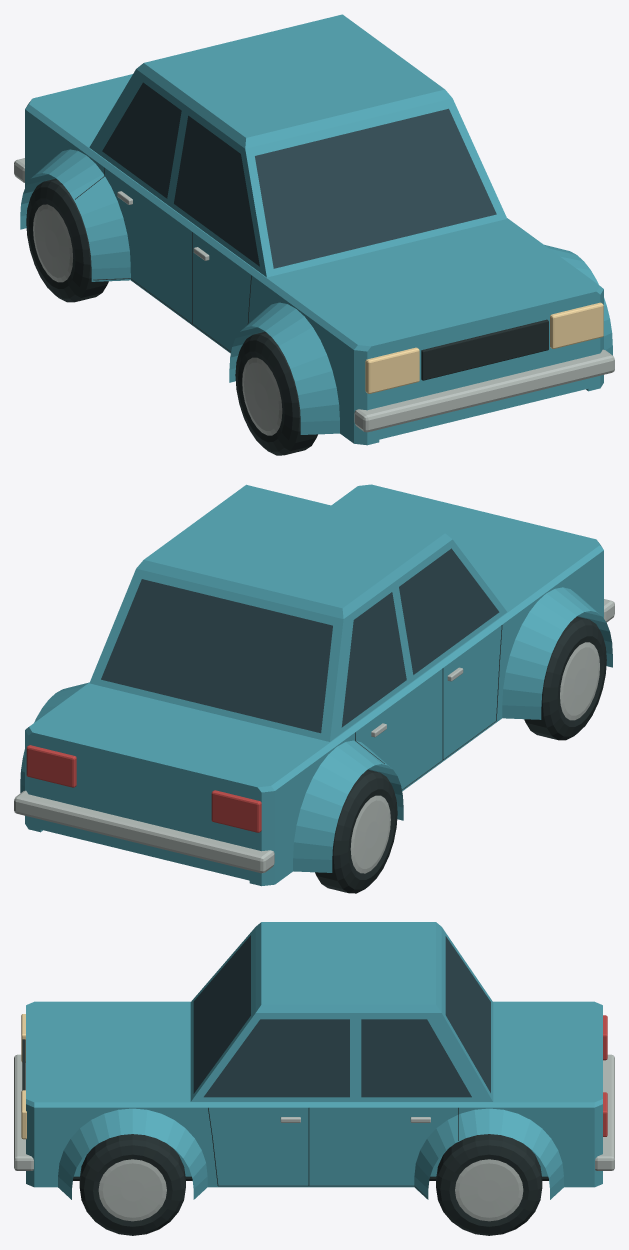
Rendered from asset.glb.
3 renders of one model, top to bottom at view 1: azimuth 30°, elevation 25°; view 2: azimuth 150°, elevation 25°; view 3: azimuth 270°, elevation 25°, orthographic. The views are drawn at different scales.
Parts seen in each view (by area): view 1: Body_ThreeBox_LowerShell, Cabin_Painted_Pillars_Roof, Glass_Windshield, Glass_Front_L, wheel_rl, wheel_fl, Fender_Local_Rear_L, Fender_Local_Front_L, Bumper_Front, Glass_Rear_L, Grille_Dark, Headlight_L (+2 smaller); view 2: Body_ThreeBox_LowerShell, Cabin_Painted_Pillars_Roof, Glass_RearWindow, Glass_Front_L, wheel_rl, wheel_fl, Fender_Local_Front_L, Fender_Local_Rear_L, Bumper_Rear, Glass_Rear_L, Taillight_L, Taillight_R (+1 smaller); view 3: Body_ThreeBox_LowerShell, Cabin_Painted_Pillars_Roof, Glass_Front_R, wheel_fr, wheel_rr, Glass_Rear_R, Glass_Windshield, Fender_Local_Front_R, Fender_Local_Rear_R, Glass_RearWindow, Bumper_Rear, Bumper_Front.
Part boxes in pixels (left/top/right/bottom): Body_ThreeBox_LowerShell: left=25, top=74, right=603, bottom=445; Cabin_Painted_Pillars_Roof: left=89, top=14, right=507, bottom=277; Glass_Windshield: left=255, top=108, right=496, bottom=268; Glass_Front_L: left=174, top=115, right=259, bottom=266; wheel_rl: left=26, top=178, right=108, bottom=302; wheel_fl: left=235, top=331, right=317, bottom=455; Fender_Local_Rear_L: left=20, top=149, right=130, bottom=281; Fender_Local_Front_L: left=229, top=302, right=339, bottom=434; Bumper_Front: left=354, top=349, right=614, bottom=432; Glass_Rear_L: left=102, top=82, right=181, bottom=198; Grille_Dark: left=421, top=319, right=548, bottom=380; Headlight_L: left=365, top=347, right=419, bottom=393; Body_ThreeBox_LowerShell: left=25, top=484, right=603, bottom=886; Cabin_Painted_Pillars_Roof: left=89, top=484, right=506, bottom=741; Glass_RearWindow: left=101, top=579, right=332, bottom=733; Glass_Front_L: left=399, top=548, right=499, bottom=674; wheel_rl: left=315, top=769, right=397, bottom=893; wheel_fl: left=524, top=616, right=606, bottom=740; Fender_Local_Front_L: left=502, top=587, right=612, bottom=719; Fender_Local_Rear_L: left=293, top=740, right=403, bottom=872; Bumper_Rear: left=14, top=790, right=274, bottom=873; Glass_Rear_L: left=341, top=592, right=406, bottom=727; Taillight_L: left=211, top=790, right=261, bottom=832; Taillight_R: left=26, top=745, right=76, bottom=787; Body_ThreeBox_LowerShell: left=26, top=1001, right=602, bottom=1187; Cabin_Painted_Pillars_Roof: left=190, top=922, right=493, bottom=1101; Glass_Front_R: left=204, top=1019, right=349, bottom=1097; wheel_fr: left=79, top=1134, right=185, bottom=1235; wheel_rr: left=436, top=1134, right=542, bottom=1235; Glass_Rear_R: left=361, top=1019, right=471, bottom=1097; Glass_Windshield: left=193, top=935, right=250, bottom=1093; Fender_Local_Front_R: left=58, top=1108, right=207, bottom=1199; Fender_Local_Rear_R: left=414, top=1108, right=563, bottom=1199; Glass_RearWindow: left=445, top=936, right=490, bottom=1092; Bumper_Rear: left=595, top=1054, right=614, bottom=1170; Bumper_Front: left=14, top=1054, right=33, bottom=1170.
Bounding box in the file's own units: 2.25 × 1.65 × 4.3.
